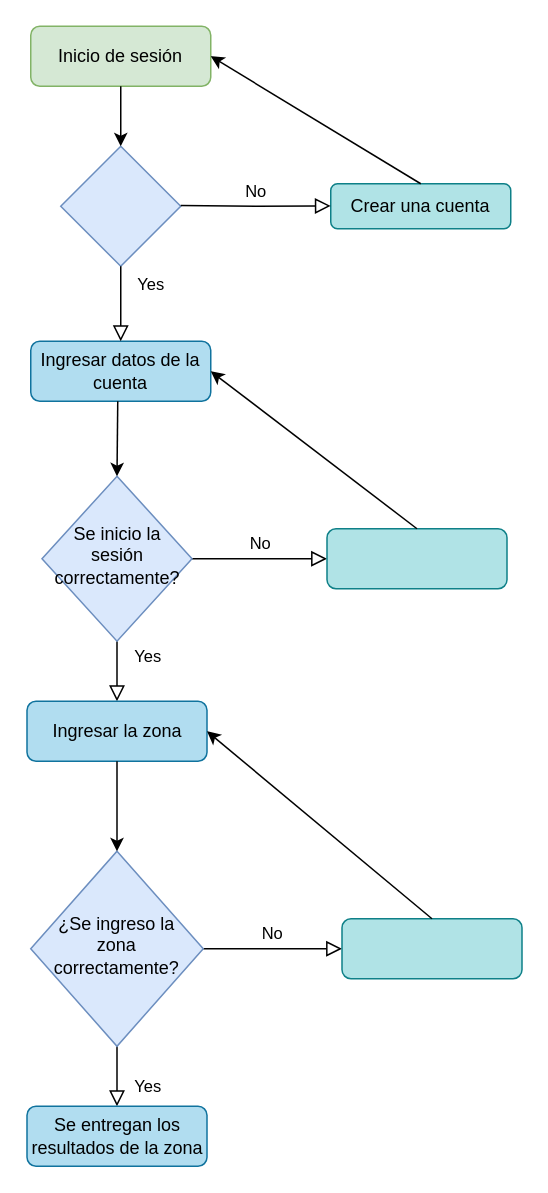
Image size: 548x1193. Some labels were removed from this diagram. The box of each missing label's shape, as (x1, y1, x2, y2) in pixels:
Volver a ingresar la zona: (340, 917, 522, 979)
Volver a iniciar sesión: (326, 527, 507, 589)
¿Tiene una cuenta?: (59, 145, 181, 266)
